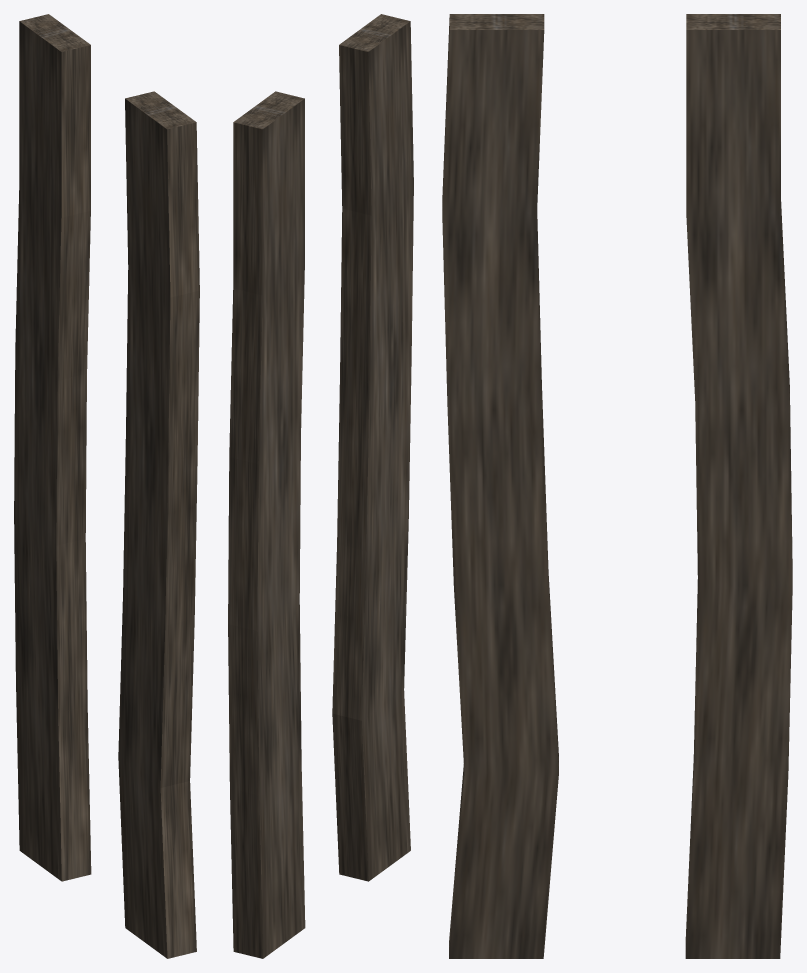
The model's file is Valla_tablones2.obj.
3 renders of one model, left to right at view 1: azimuth 30°, elevation 25°; view 2: azimuth 150°, elevation 25°; view 3: azimuth 270°, elevation 25°, orthographic. The views are drawn at different scales.
Visible parts, largest first — view 1: Cube.115_Cube.120; view 2: Cube.115_Cube.120; view 3: Cube.115_Cube.120.
Part boxes in pixels (bbox=[...]): Cube.115_Cube.120: bbox=[14, 14, 199, 958]; Cube.115_Cube.120: bbox=[228, 14, 413, 958]; Cube.115_Cube.120: bbox=[442, 14, 792, 958].
Bounding box in the file's own units: 0.1079 × 2.9 × 0.9918.
Materials: 1 (1 with a texture image).
